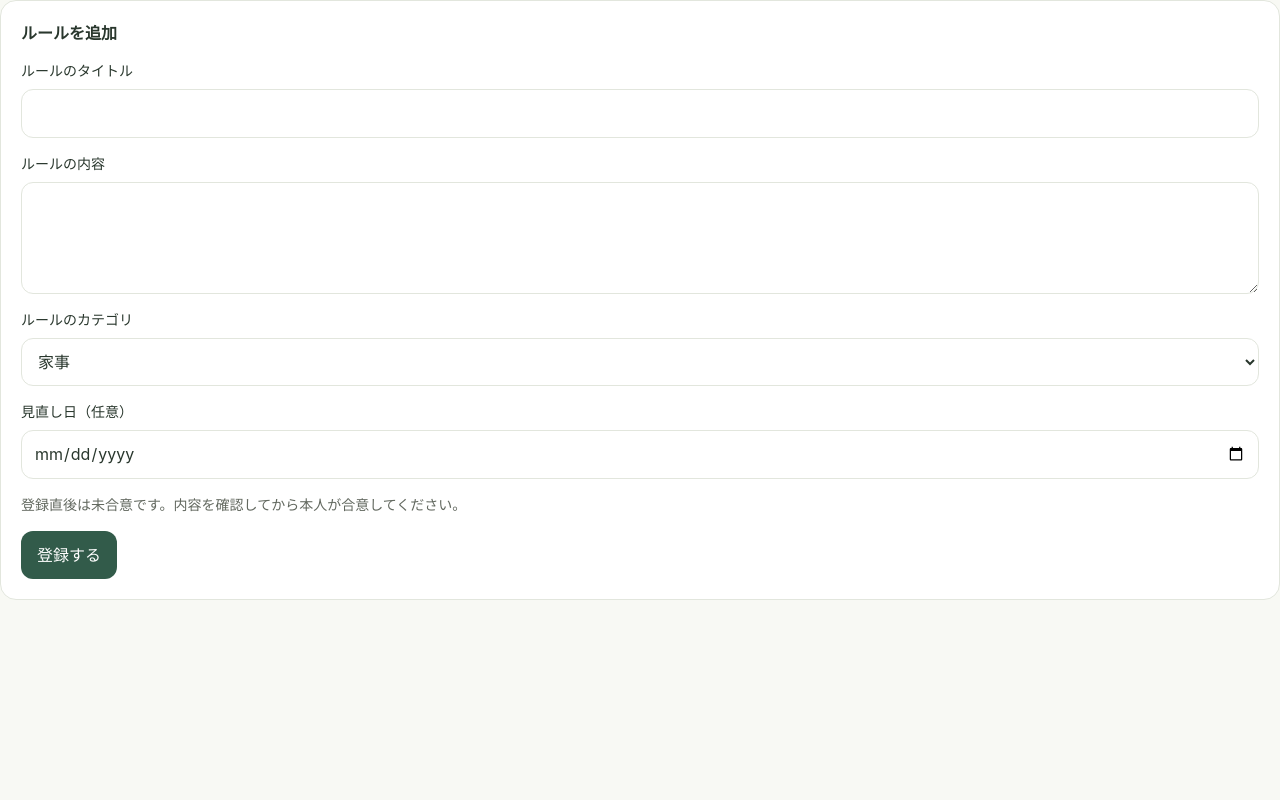
retains edits and prevents double submission while pending or failed
Type "入力を残す" into the field labelled "ルールのタイトル" at x=640, y=113, box [21,89,1259,138]
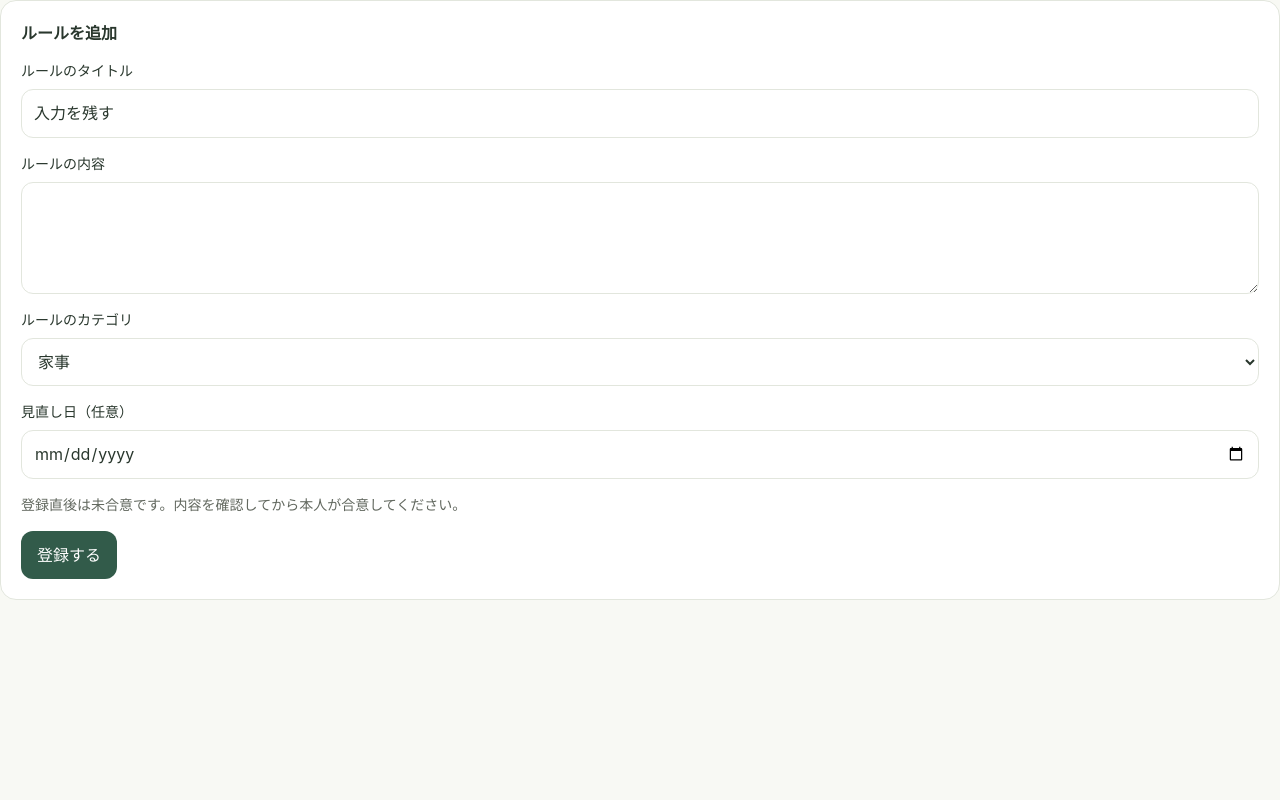
Type "内容" into the text box labelled "ルールの内容" at x=640, y=238, box [21,182,1259,294]
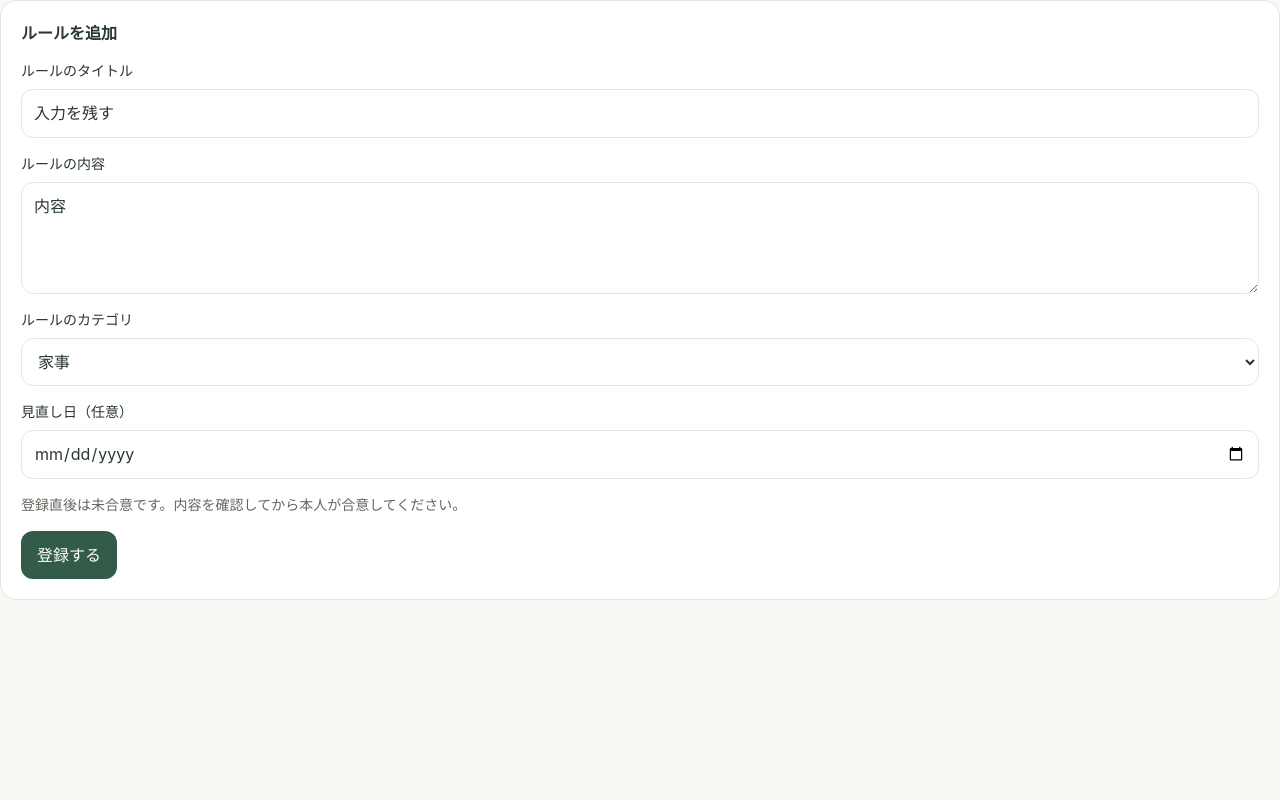
Click the button "登録する" at x=69, y=555, box [21,531,117,579]
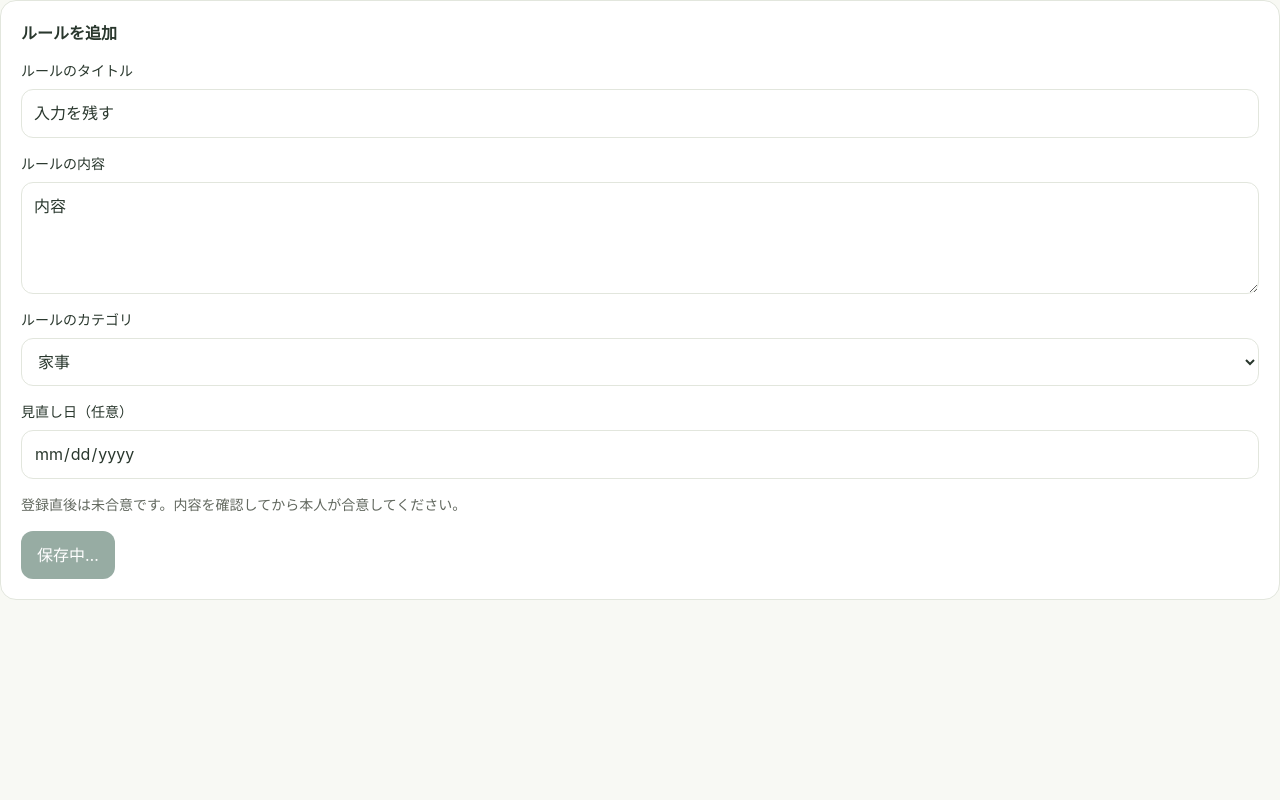
Click the button named "登録する" at x=68, y=555, box [21,531,115,579]
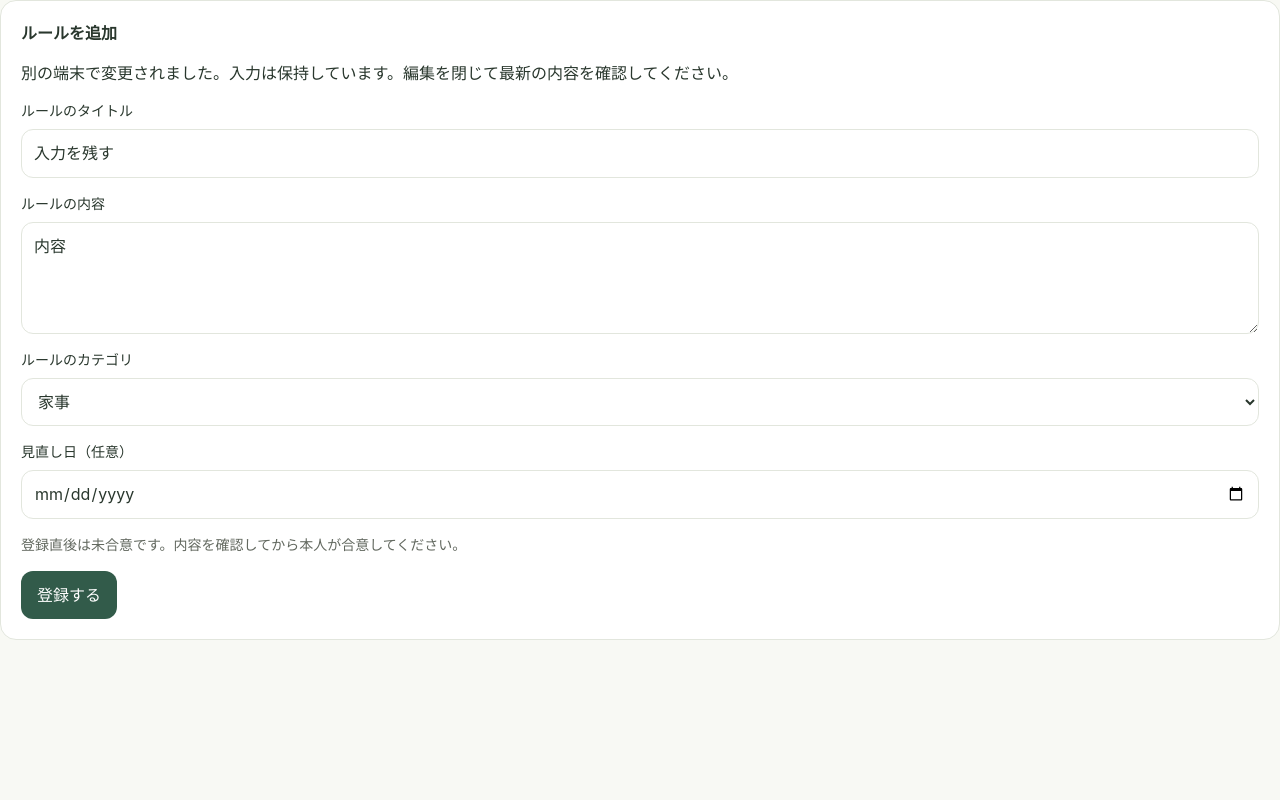
Expected: the message shows "入力は保持", [21,63,738,83]
